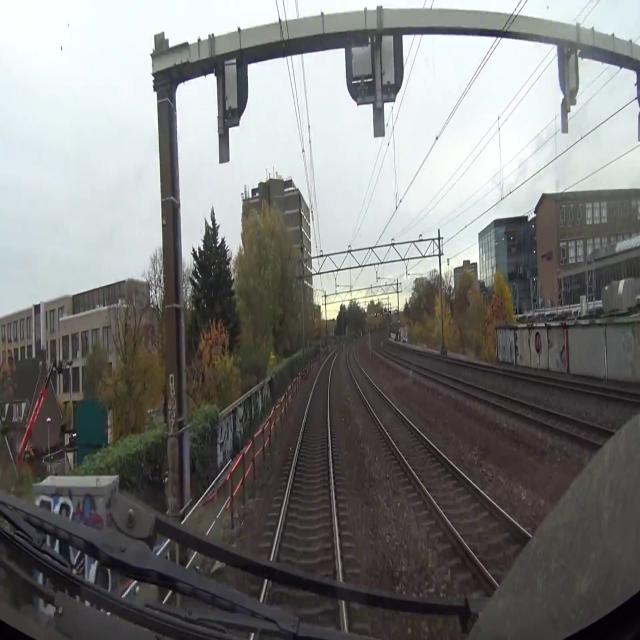rail-track: (349, 345, 525, 578), (436, 375, 608, 440), (280, 354, 335, 553)
